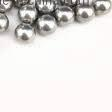ironball: (36, 15, 58, 37), (15, 23, 35, 45), (53, 5, 75, 25), (75, 5, 96, 25), (17, 3, 39, 22), (91, 0, 111, 17), (33, 0, 57, 13), (0, 14, 10, 35), (0, 0, 13, 13), (57, 0, 85, 6), (13, 0, 31, 8)
